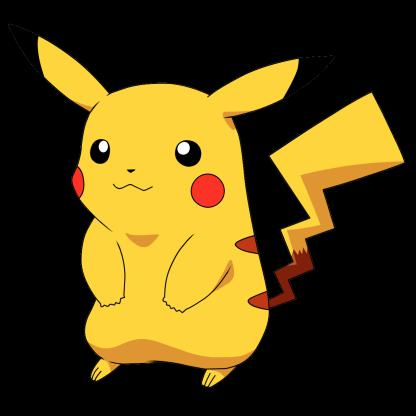Pikachu: (4, 14, 407, 391)
